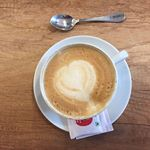cups: (38, 41, 131, 121)
